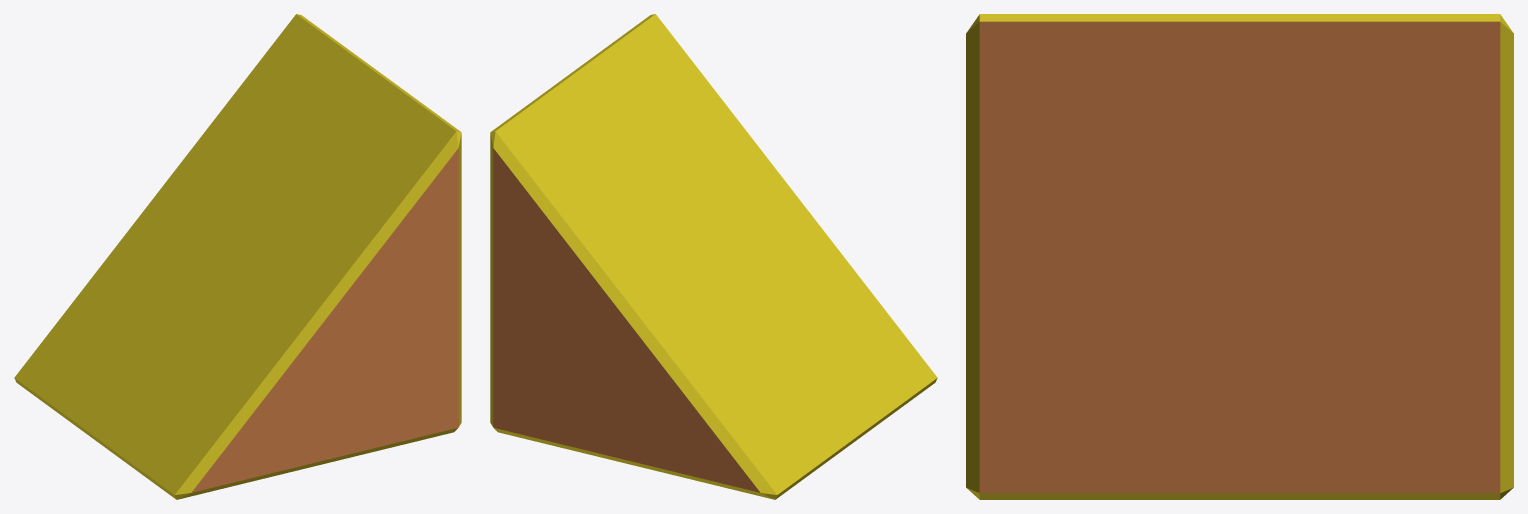
File: pokat44.fbx
The picture shows the model from 3 angles, left to right: view 1: azimuth 30°, elevation 25°; view 2: azimuth 150°, elevation 25°; view 3: azimuth 270°, elevation 25°; orthographic projection. The views are drawn at different scales.
Parts seen in each view (by area): view 1: Cube; view 2: Cube; view 3: Cube.
Part boxes in pixels (left/top/right/bottom): Cube: left=14, top=14, right=461, bottom=499; Cube: left=490, top=14, right=937, bottom=499; Cube: left=966, top=14, right=1513, bottom=499.
Size of the model in its own units: 1.96 by 1.96 by 2.
